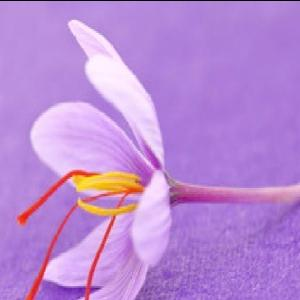Saffron: (30, 17, 182, 300)
